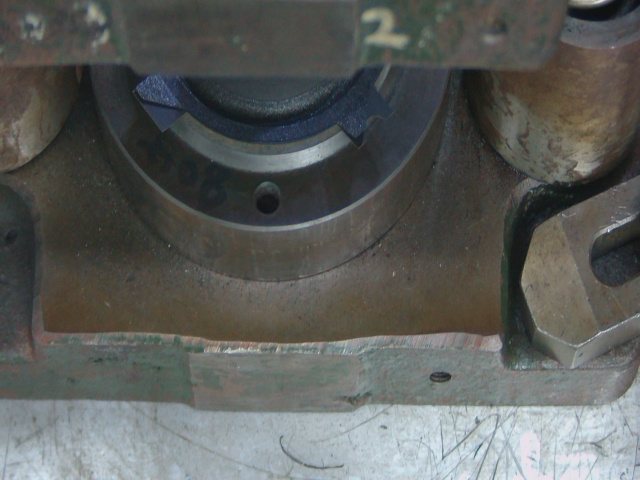NG: (337, 84, 401, 157)
